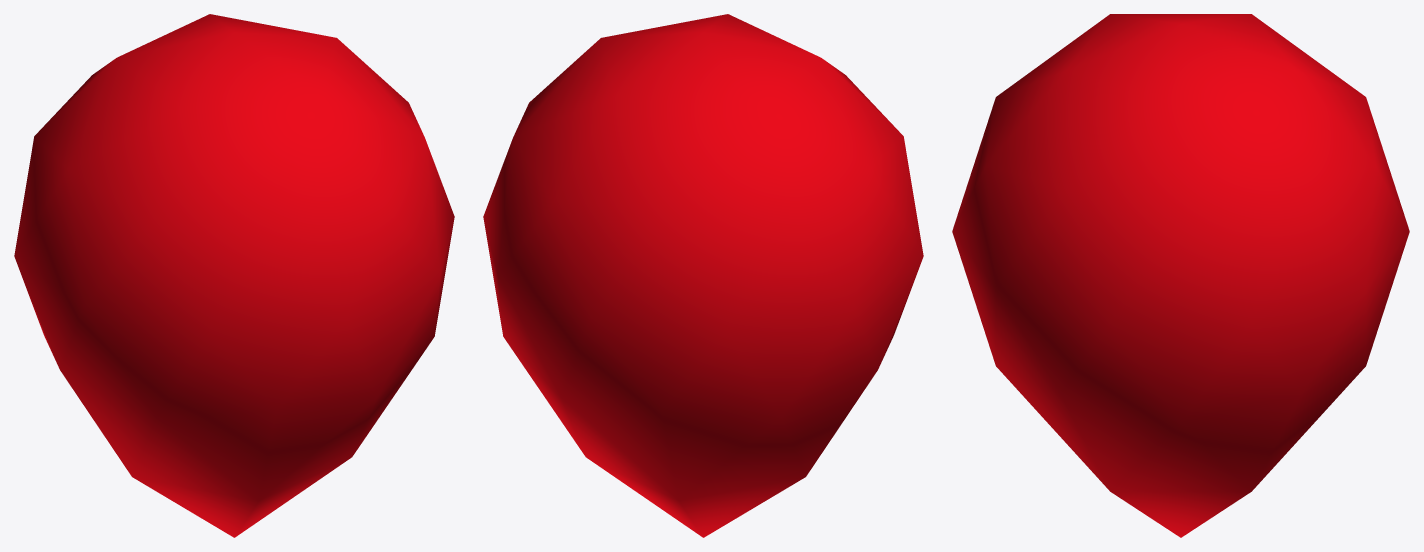
Rendered from Bloon.glb.
3 views of the same model, side by side, from view 1: azimuth 30°, elevation 25°; view 2: azimuth 150°, elevation 25°; view 3: azimuth 270°, elevation 25° (orthographic).
Visible parts, largest first — view 1: Icosphere; view 2: Icosphere; view 3: Icosphere.
Boxes of the visible parts, <box> form: Icosphere: <box>14,14,454,537</box>; Icosphere: <box>483,14,923,537</box>; Icosphere: <box>952,14,1409,537</box>.
Size of the model in its own units: 0.3878 by 0.5052 by 0.4078.
